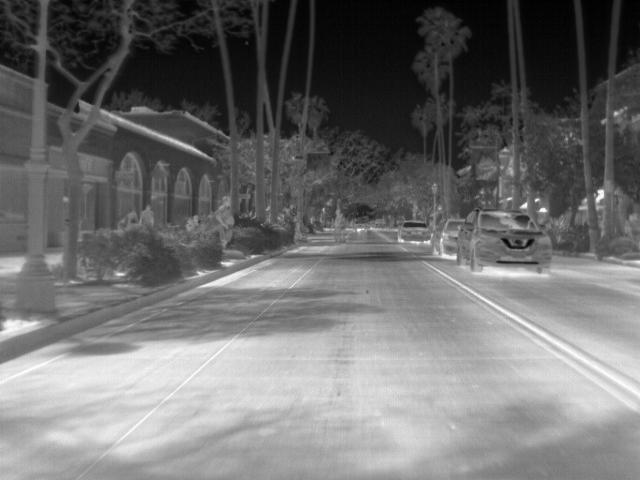car: (457, 207, 552, 278), (432, 218, 469, 258), (397, 220, 432, 246)
person: (216, 194, 238, 251), (138, 203, 156, 226)
